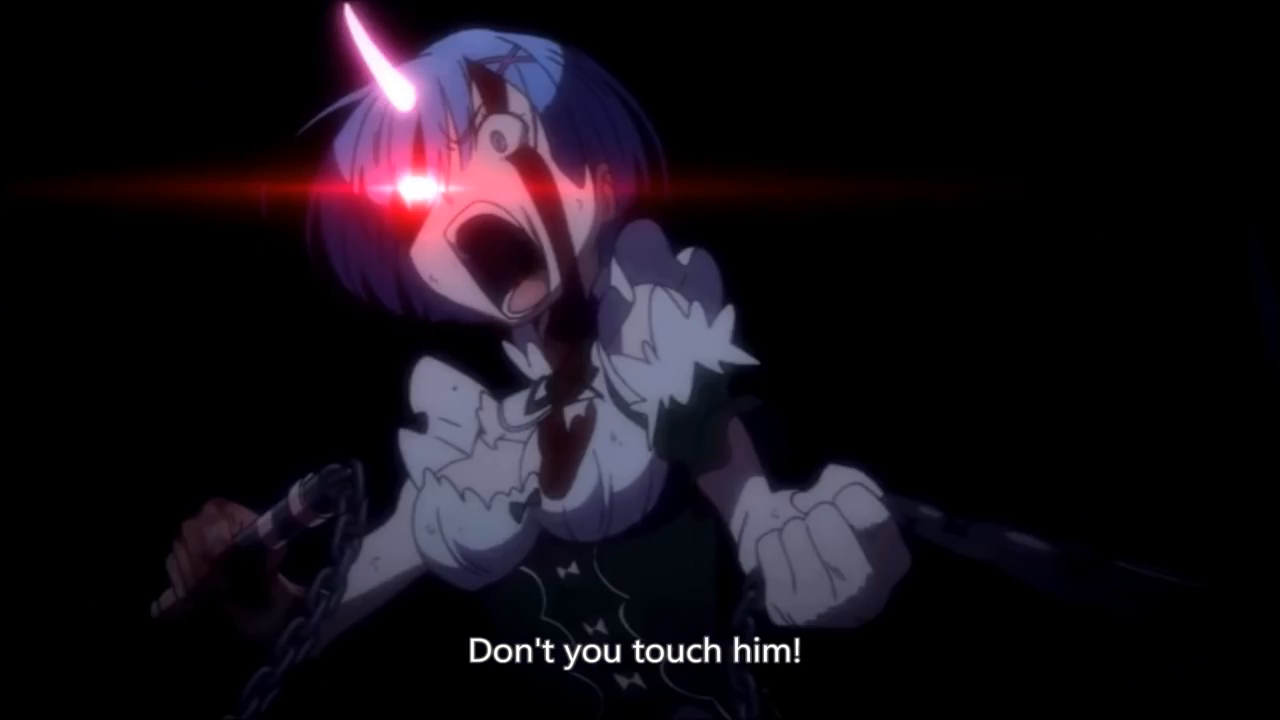REM: (304, 12, 659, 352)
